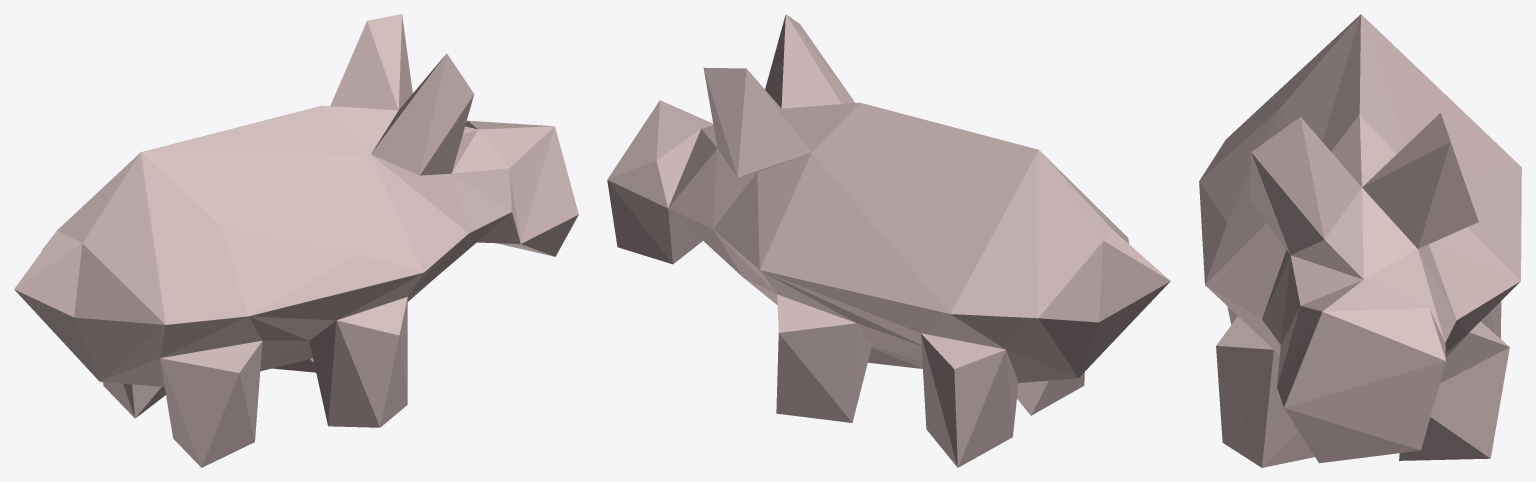
3 renders of one model, left to right at view 1: azimuth 30°, elevation 25°; view 2: azimuth 150°, elevation 25°; view 3: azimuth 270°, elevation 25°, orthographic. The views are drawn at different scales.
Parts seen in each view (by area): view 1: part0; view 2: part0; view 3: part0.
Boxes of the visible parts, x1,y1,x2,y2 form: part0: (14,14,578,467); part0: (607,14,1170,467); part0: (1199,14,1521,467).
Bounding box in the file's own units: 3.65 × 2.18 × 1.62.
